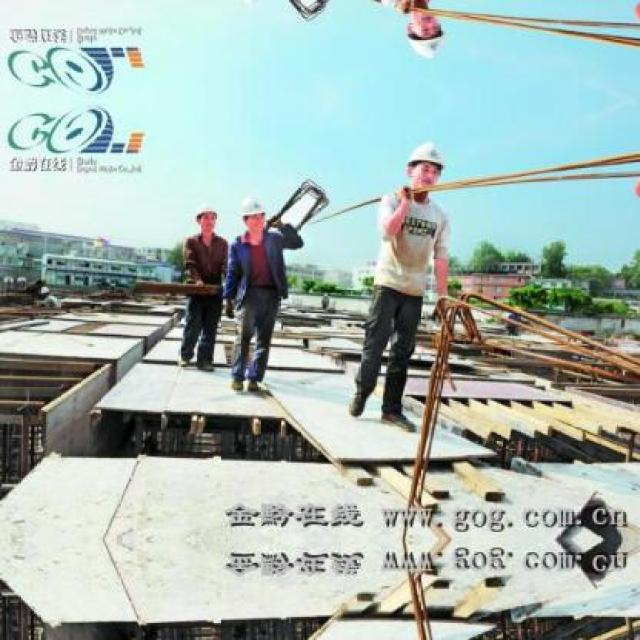helmet: (402, 133, 450, 195), (402, 5, 450, 66), (234, 191, 264, 236), (192, 202, 223, 234), (233, 0, 264, 9)
